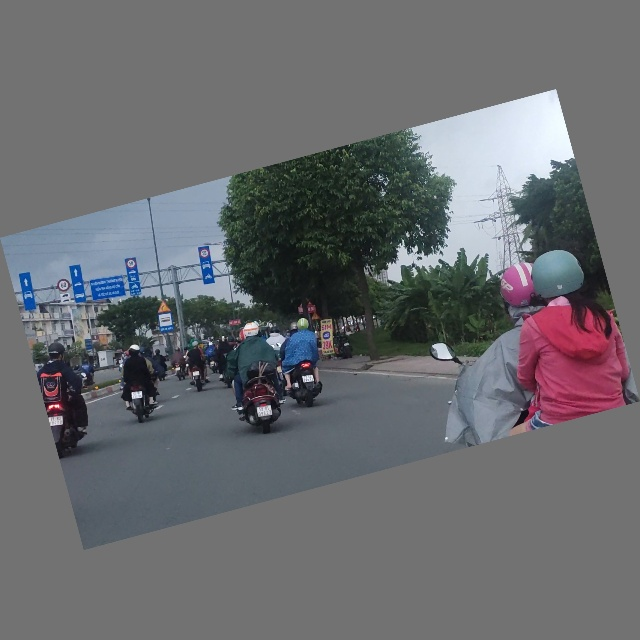I.434a: (156, 312, 176, 336)
P.127*50: (198, 248, 211, 260), (125, 258, 137, 271)
P.127*60: (55, 278, 71, 294)
S.505a*Xe tai va cong: (59, 292, 73, 306)
W.201b: (155, 300, 172, 315)
